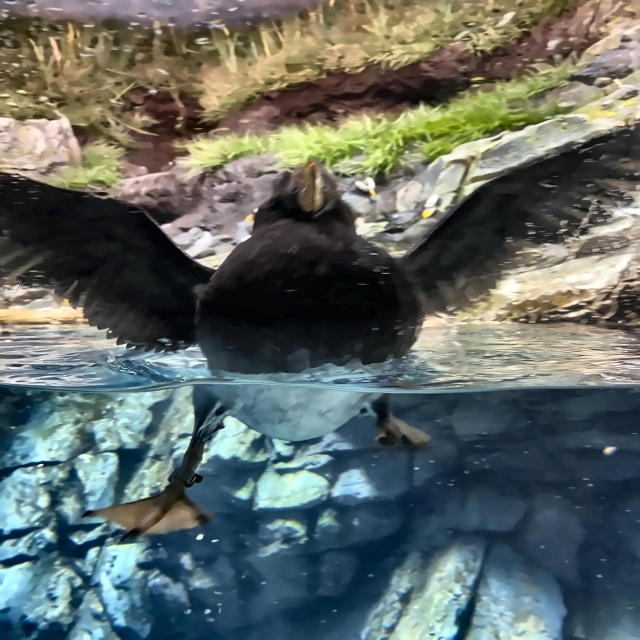puffin: (0, 128, 639, 538), (383, 188, 444, 243), (337, 170, 386, 223)
